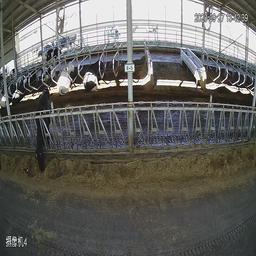cow: (34, 87, 52, 170), (83, 59, 104, 94), (56, 61, 75, 95), (41, 47, 62, 68)
